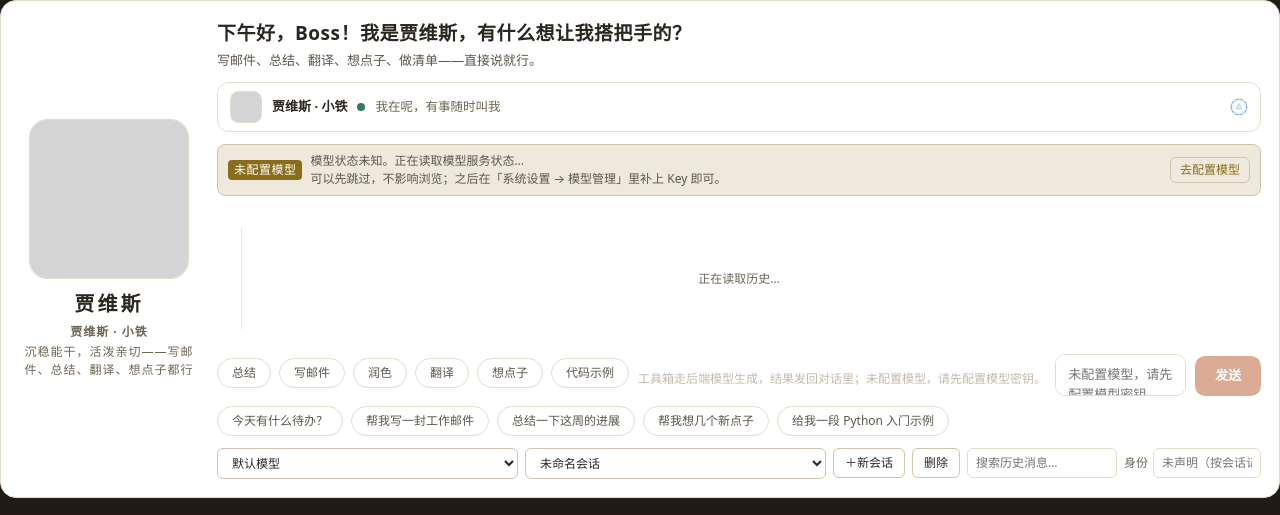
Test case: ChatPanel 工具卡与状态行 › 流没有 done 就断开：渲染「连接中断」错误卡，且不留下空气泡
In the text box with placeholder "未配置模型，请先配置模型密钥": [1121, 375] box [1055,354,1186,396], type "你好"
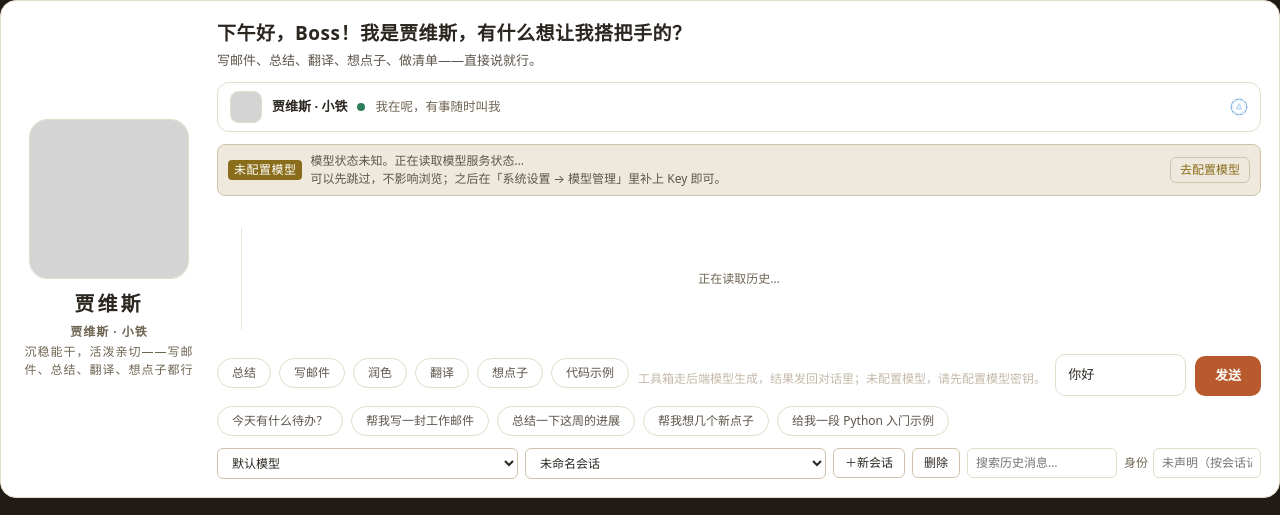
Click the button "发送": [1228, 376] box [1195,356,1261,396]
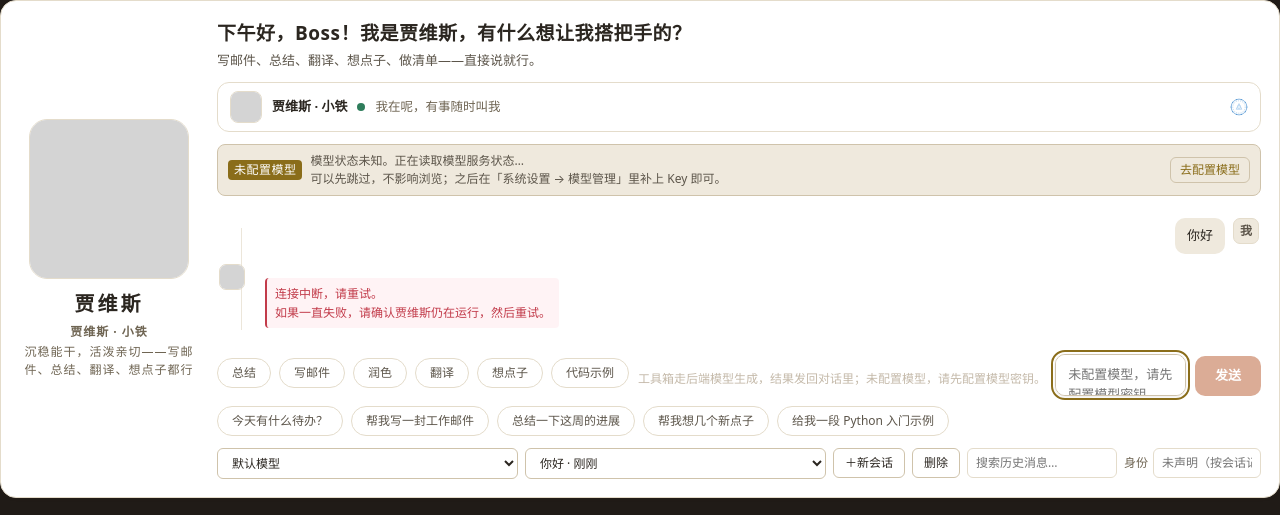
Check: the element with class "chat-bubble" does not show "…"
Check: the text "连接中断，请重试。" is shown, box [275,284,383,302]
Check: the element with class "chat-error" is shown, box [265,278,559,328]
